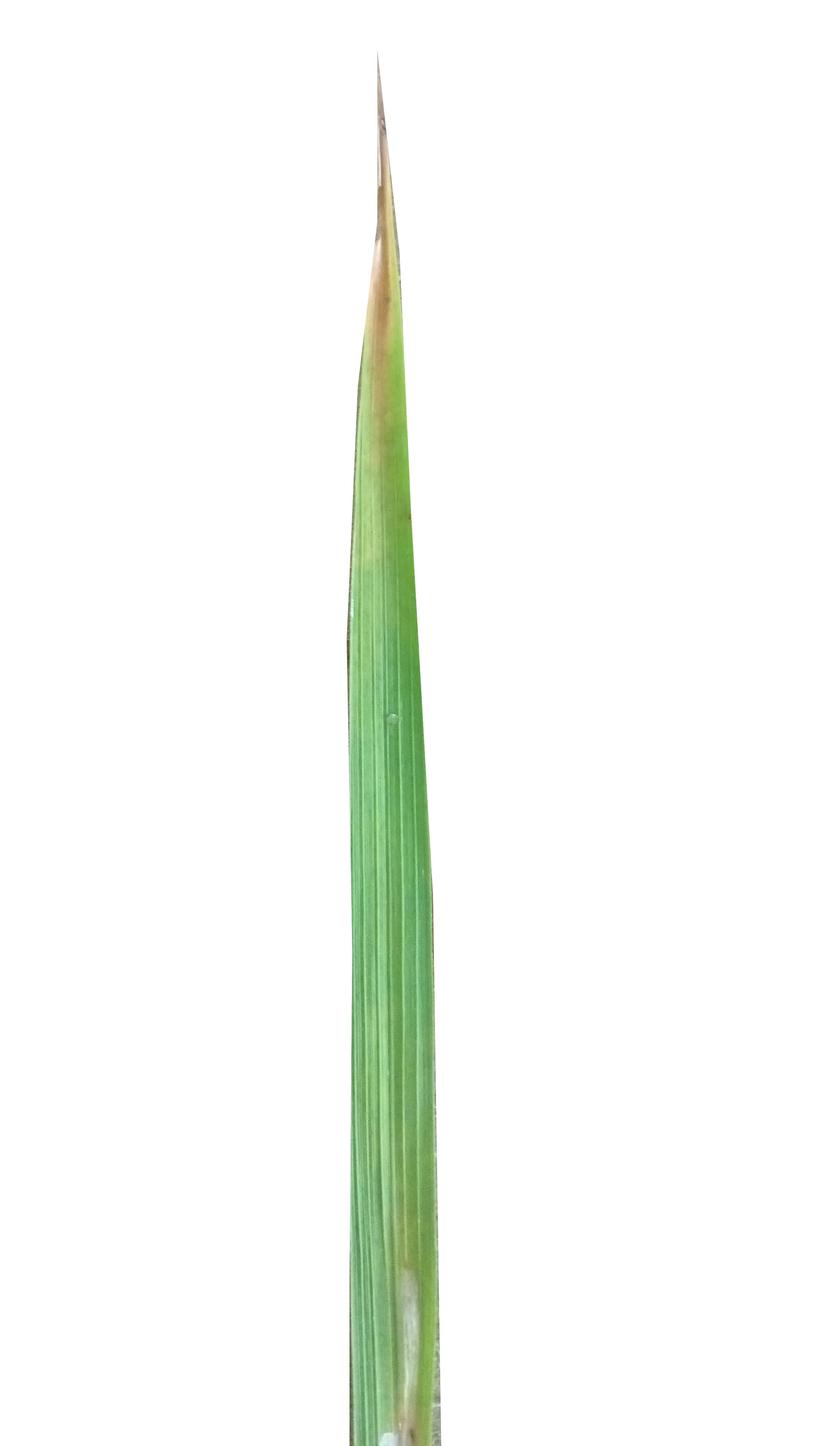Tungro: (354, 233, 417, 567)
